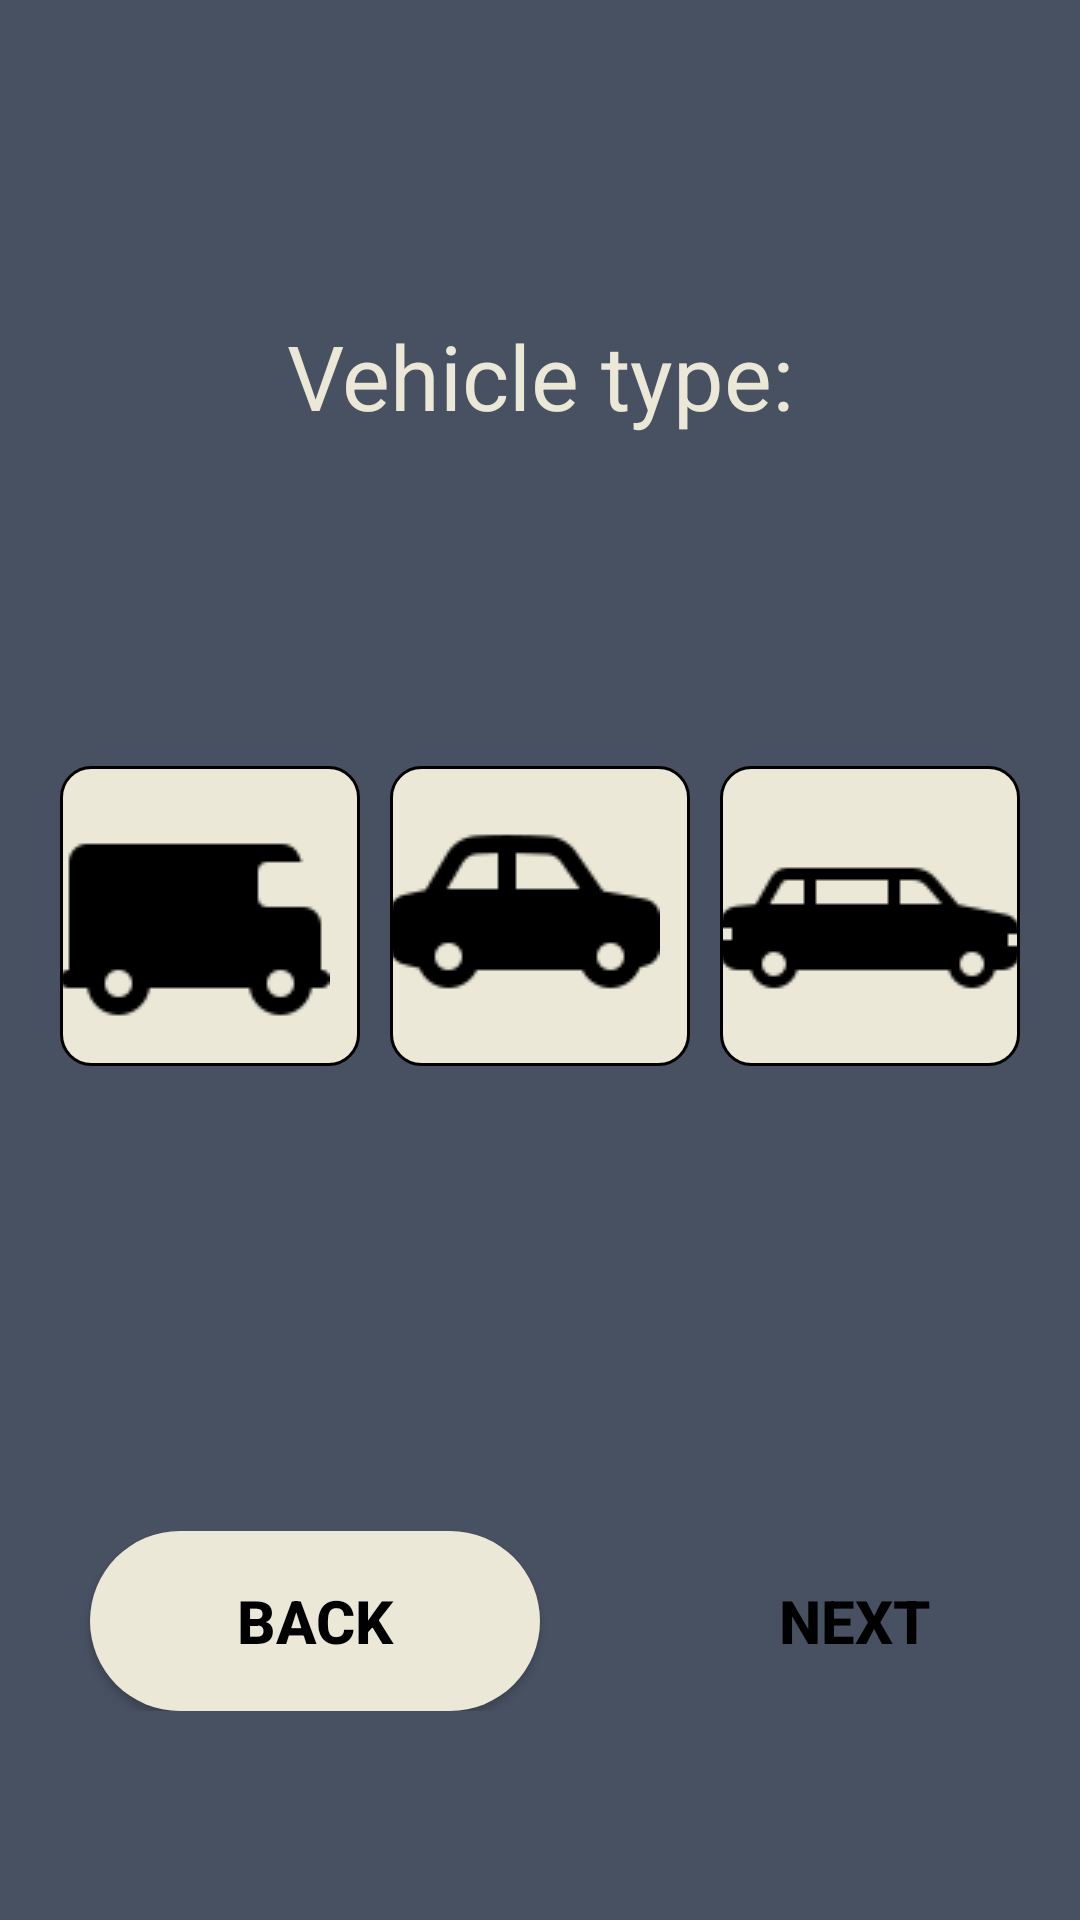

Locate icon controls on the screen. Image size 1080px x 1920px, boxes as {"left": x1, "top": y1, "right": x2, "bottom": y2}.
car: {"left": 390, "top": 766, "right": 690, "bottom": 1066}
limousine: {"left": 720, "top": 766, "right": 1020, "bottom": 1066}
van: {"left": 60, "top": 766, "right": 360, "bottom": 1066}
